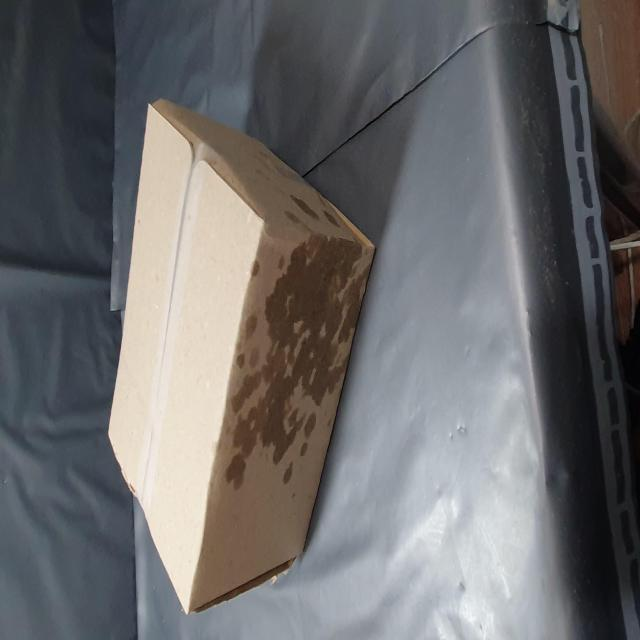wet: (78, 400, 232, 640)
